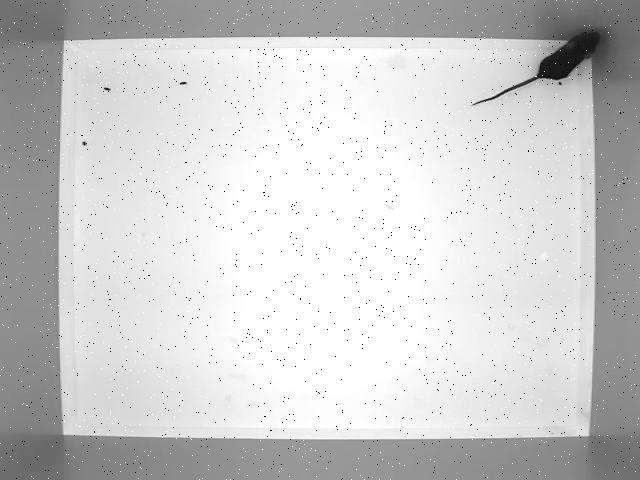Tikus: (472, 33, 599, 107)
